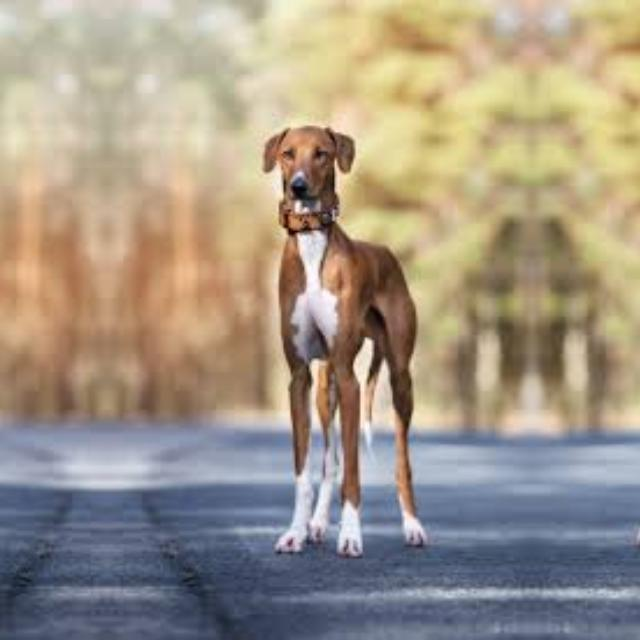dog: (235, 115, 467, 567), (599, 115, 640, 567)
